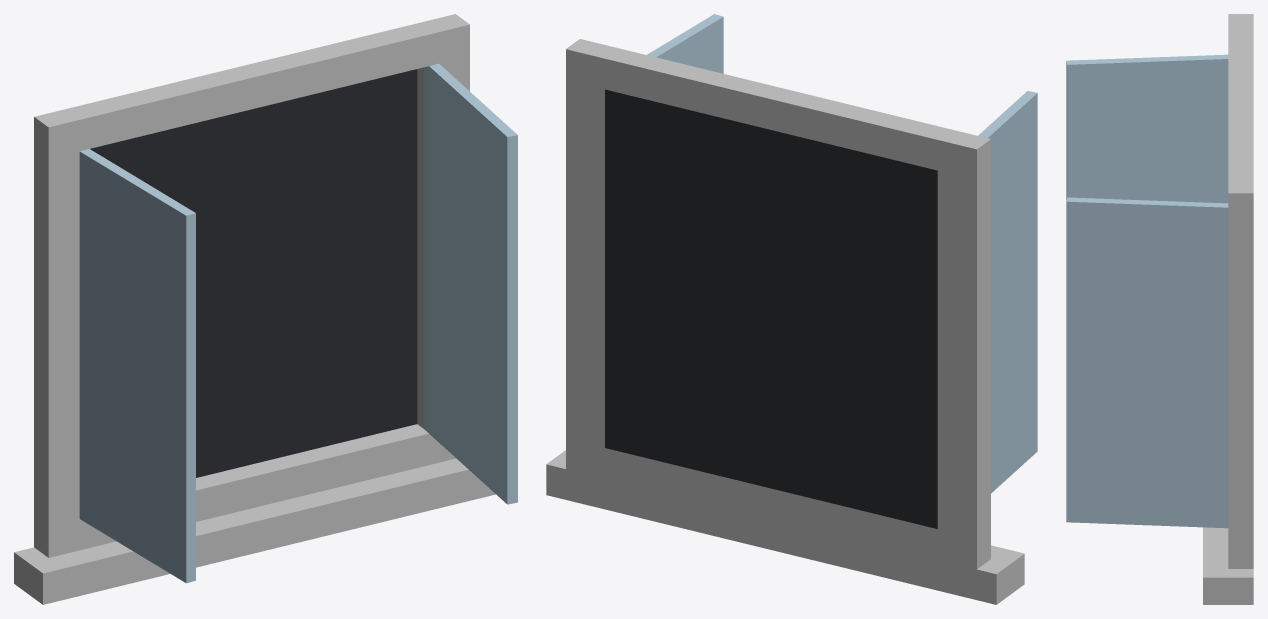
The model's file is pz_window_open.obj.
The picture shows the model from 3 angles, left to right: view 1: azimuth 30°, elevation 25°; view 2: azimuth 150°, elevation 25°; view 3: azimuth 270°, elevation 25°; orthographic projection. The views are drawn at different scales.
Bounding box in the file's own units: 0.92 × 0.88 × 0.3704.
